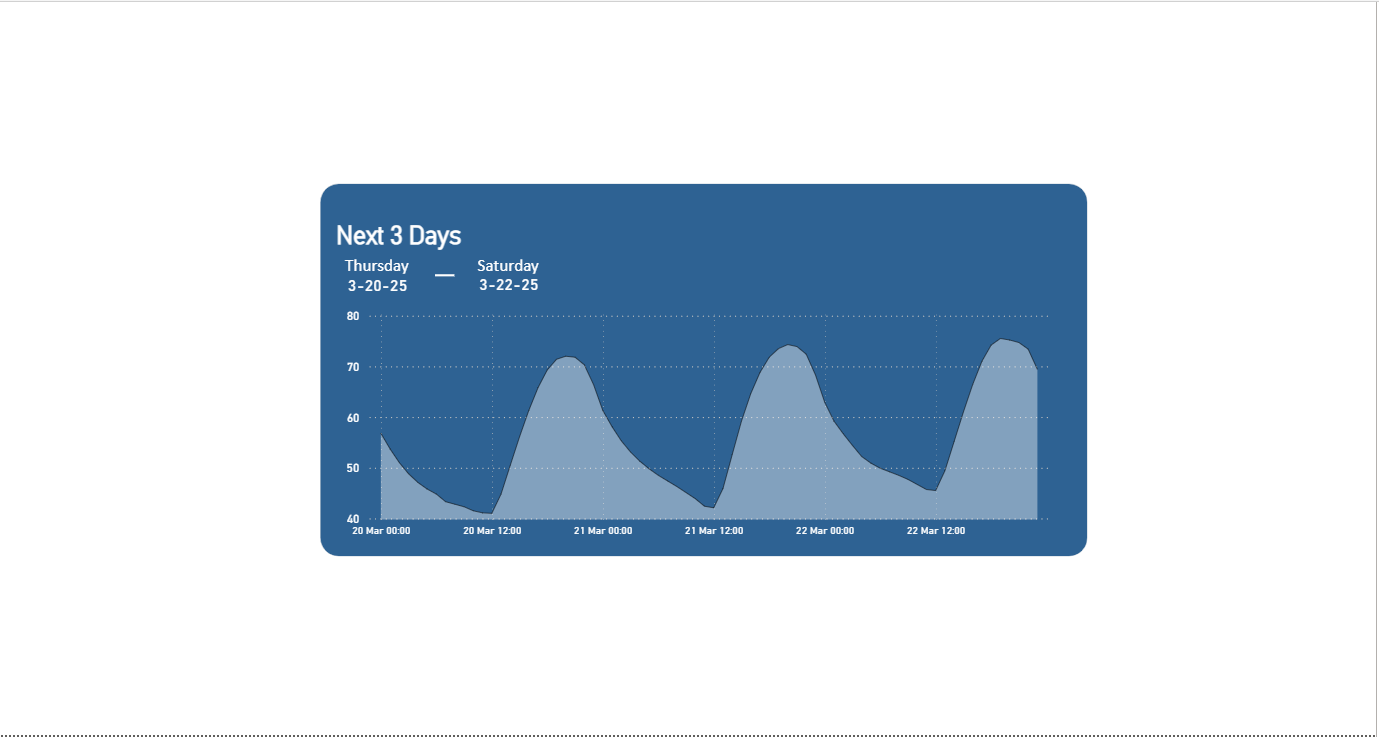

What the dashboard file says about the page in this screenshot:
{"tool":"powerbi","page":{"name":"Nextdays temp","canvas":[1280,720],"ordinal":3},"visuals":[{"type":"shape","box":[297.6,207.4,714,347],"z":0},{"type":"textbox","box":[308.6,236,167,42.3],"z":1},{"type":"card","fields":{"Values":["Min(FutureForecast.Day of Week)"]},"box":[306.2,268.2,90,23.5],"z":2},{"type":"card","fields":{"Values":["Min(FutureForecast.Days)"]},"box":[307.8,289.3,87,27.4],"z":3},{"type":"areaChart","fields":{"Y":["Sum(Forecast.Temperature)"],"Category":["Forecast.Time"]},"box":[316.7,320.7,676.7,218.6],"z":4},{"type":"card","fields":{"Values":["Min(FutureForecast.Day of Week)"]},"box":[427.7,268.2,90.1,23.5],"z":5},{"type":"card","fields":{"Values":["Min(FutureForecast.Days)"]},"box":[430.1,288.5,87,26.7],"z":6},{"type":"shape","box":[405,281.5,18,21.9],"z":7}]}

Visuals, with their boxes in screenshot pixels (x1, y1, x2, y2):
shape: 312,178,1086,554
textbox: 324,209,505,255
card - Min(FutureForecast.Day of Week): 321,244,419,269
card - Min(FutureForecast.Days): 323,267,417,297
areaChart - Sum(Forecast.Temperature) x Forecast.Time: 332,301,1066,538
card - Min(FutureForecast.Day of Week): 453,244,550,269
card - Min(FutureForecast.Days): 455,266,550,295
shape: 428,258,448,282
